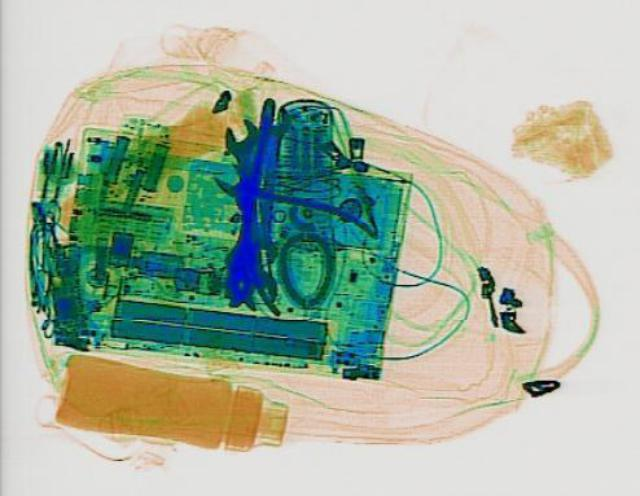Pliers: (164, 133, 400, 313)
Wrench: (219, 117, 277, 262)
